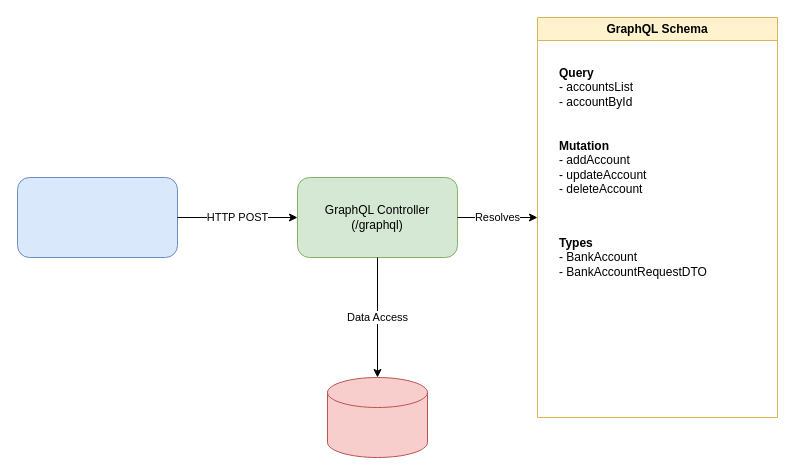
This 795x475 diagram has some shape labels left out. Here are the shapes that lost their labels. From the top down, the centre of each, then its label:
At [97,217]: "Client (Browser/Mobile)".
At [377,417]: "H2 Database".
